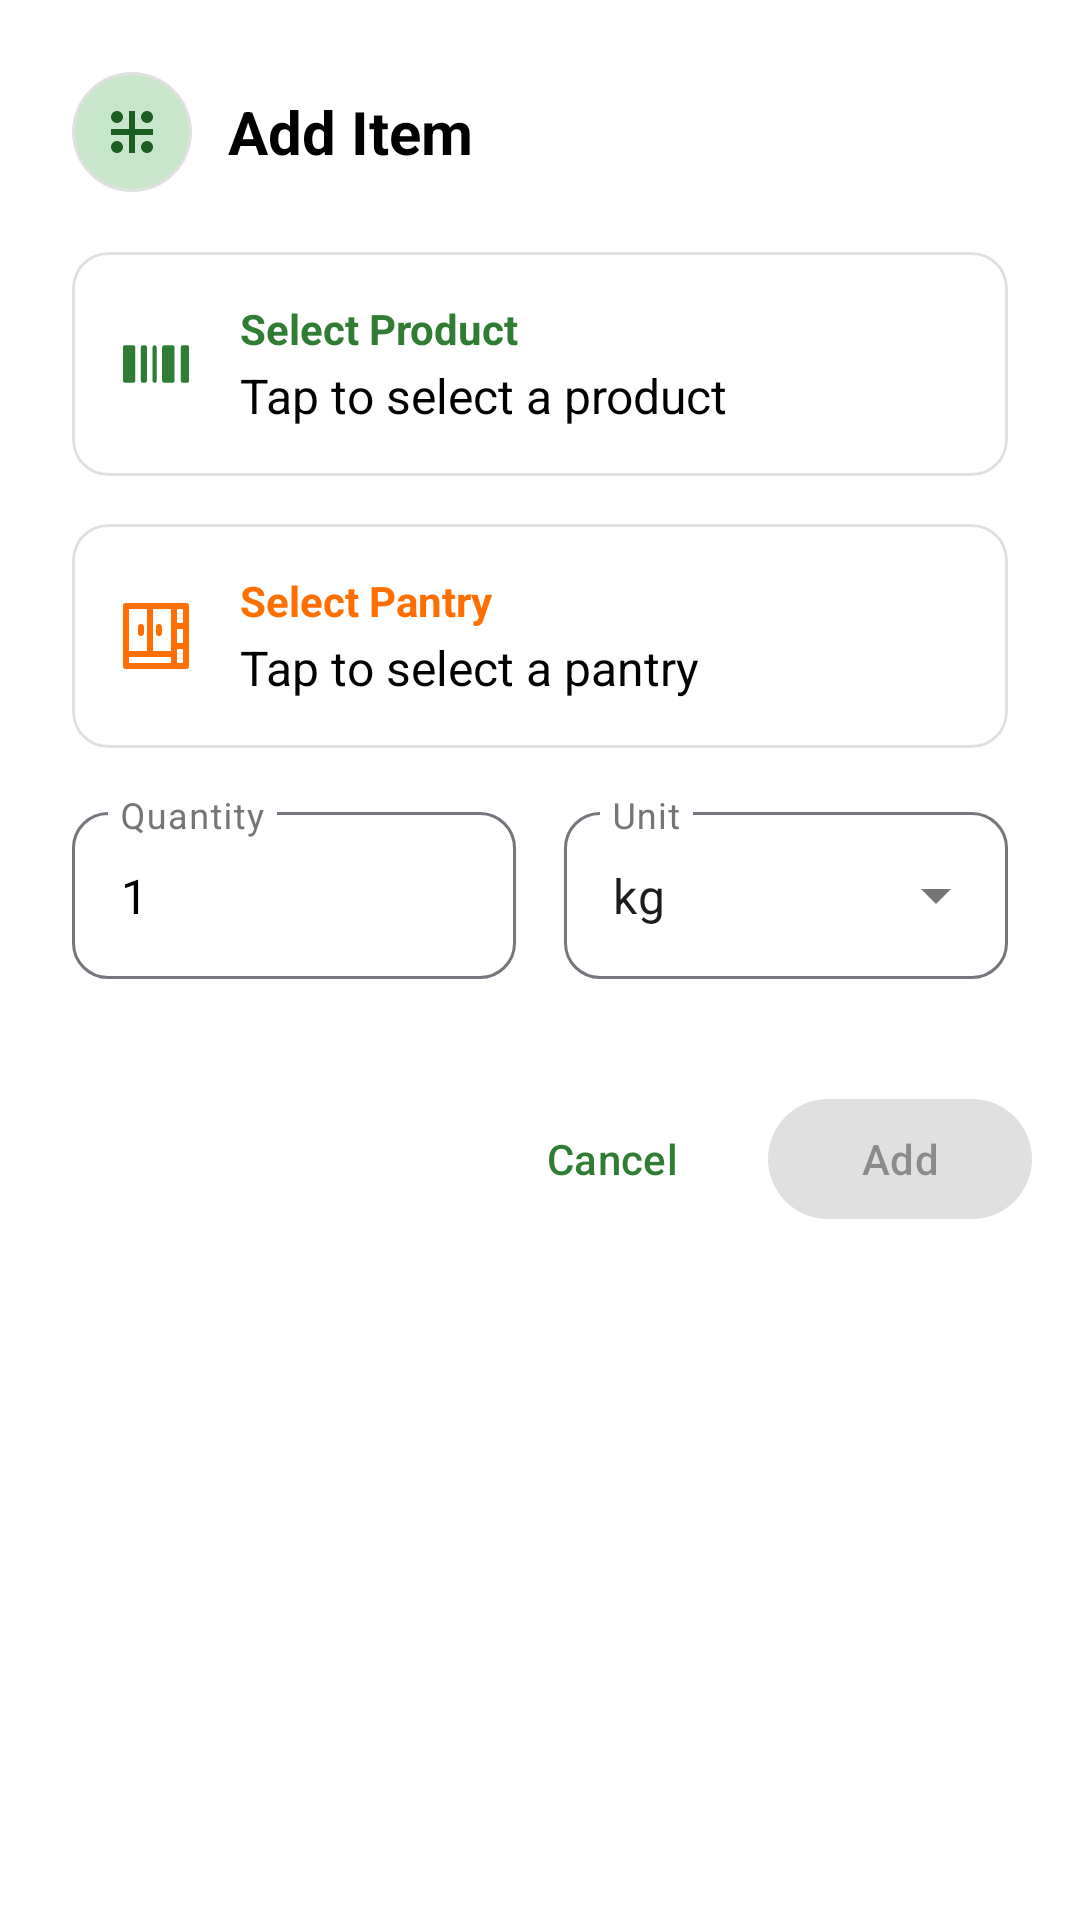

Screen size 1080px×1920px. Icon name, then its center in pixels as (x,y):
items: (132,132)
products: (156,364)
